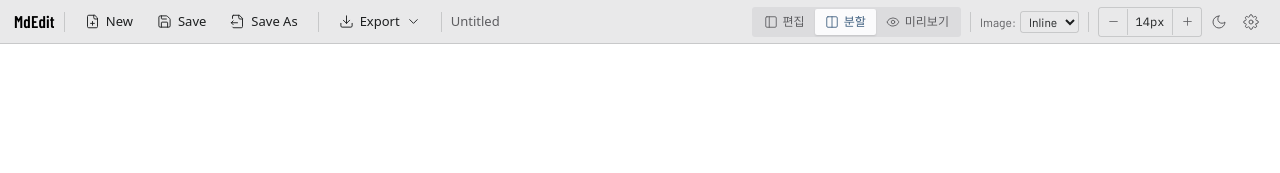
Test: Header: Export dropdown (REQ-EXPORT-011, REQ-EXPORT-012) › closes export menu when clicking outside
Click the button labelled "Export" at {"x": 380, "y": 22}, box [328, 6, 432, 36]
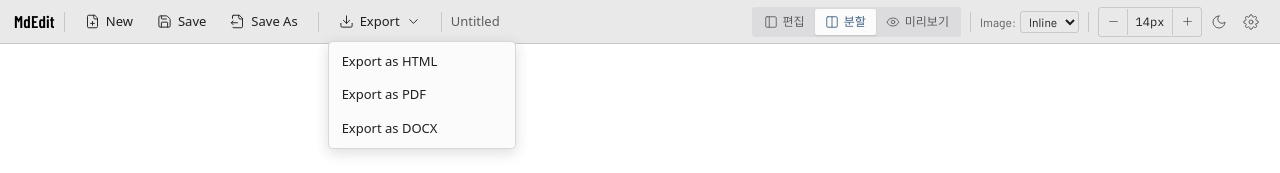
Now the menu item "Export as HTML" is shown, box [332, 44, 512, 78]
# Click outside
Press the mouse on the element that starts with "MdEdit" at {"x": 640, "y": 22}, box [0, 0, 1279, 44]
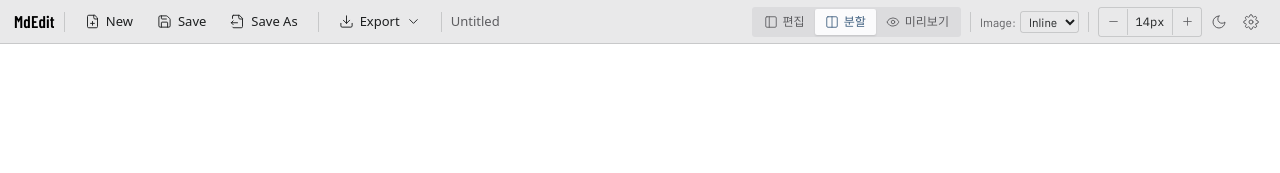
Now the menu item "Export as HTML" is gone
